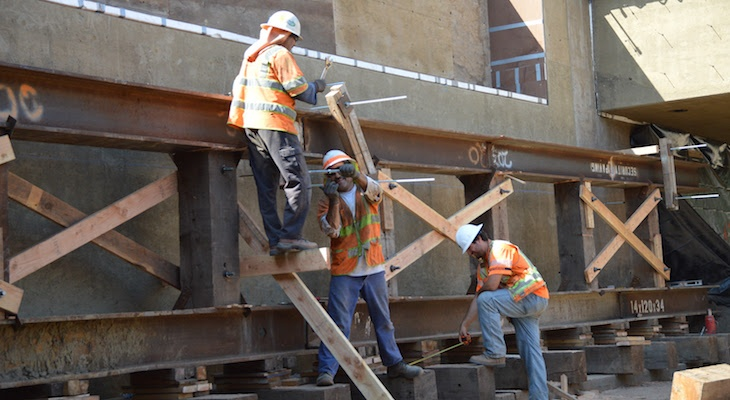white: (262, 8, 301, 52), (321, 149, 357, 192), (455, 222, 487, 257)
